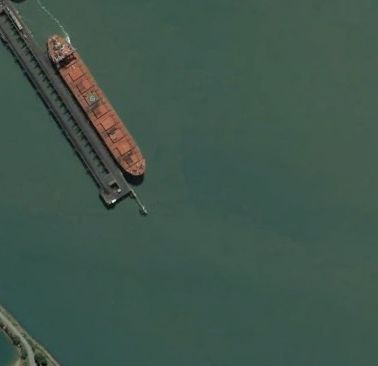boat: (46, 34, 147, 178)
